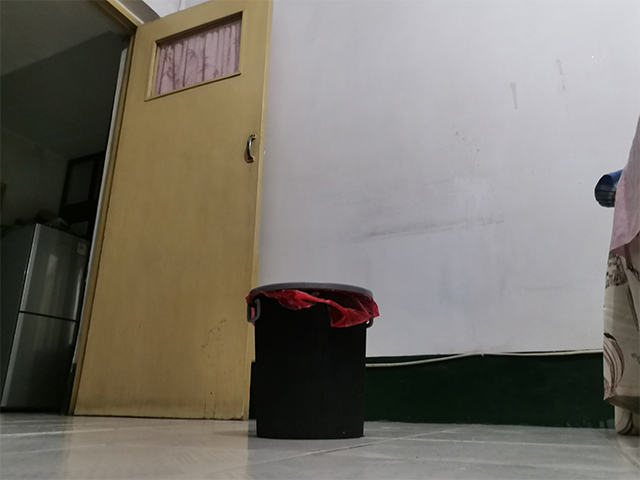trashcan: (244, 279, 382, 442)
